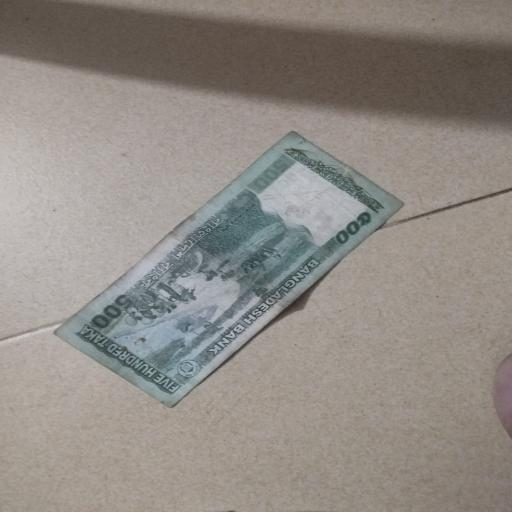500taka: (49, 130, 410, 414)
